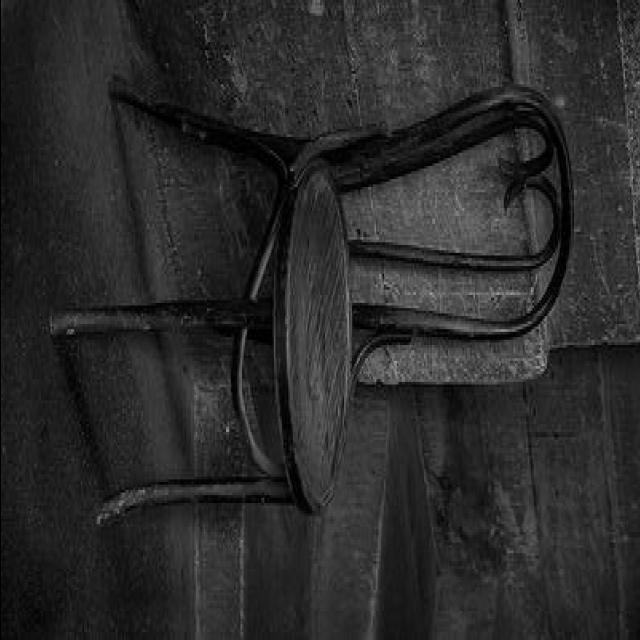chair: (45, 78, 578, 530)
